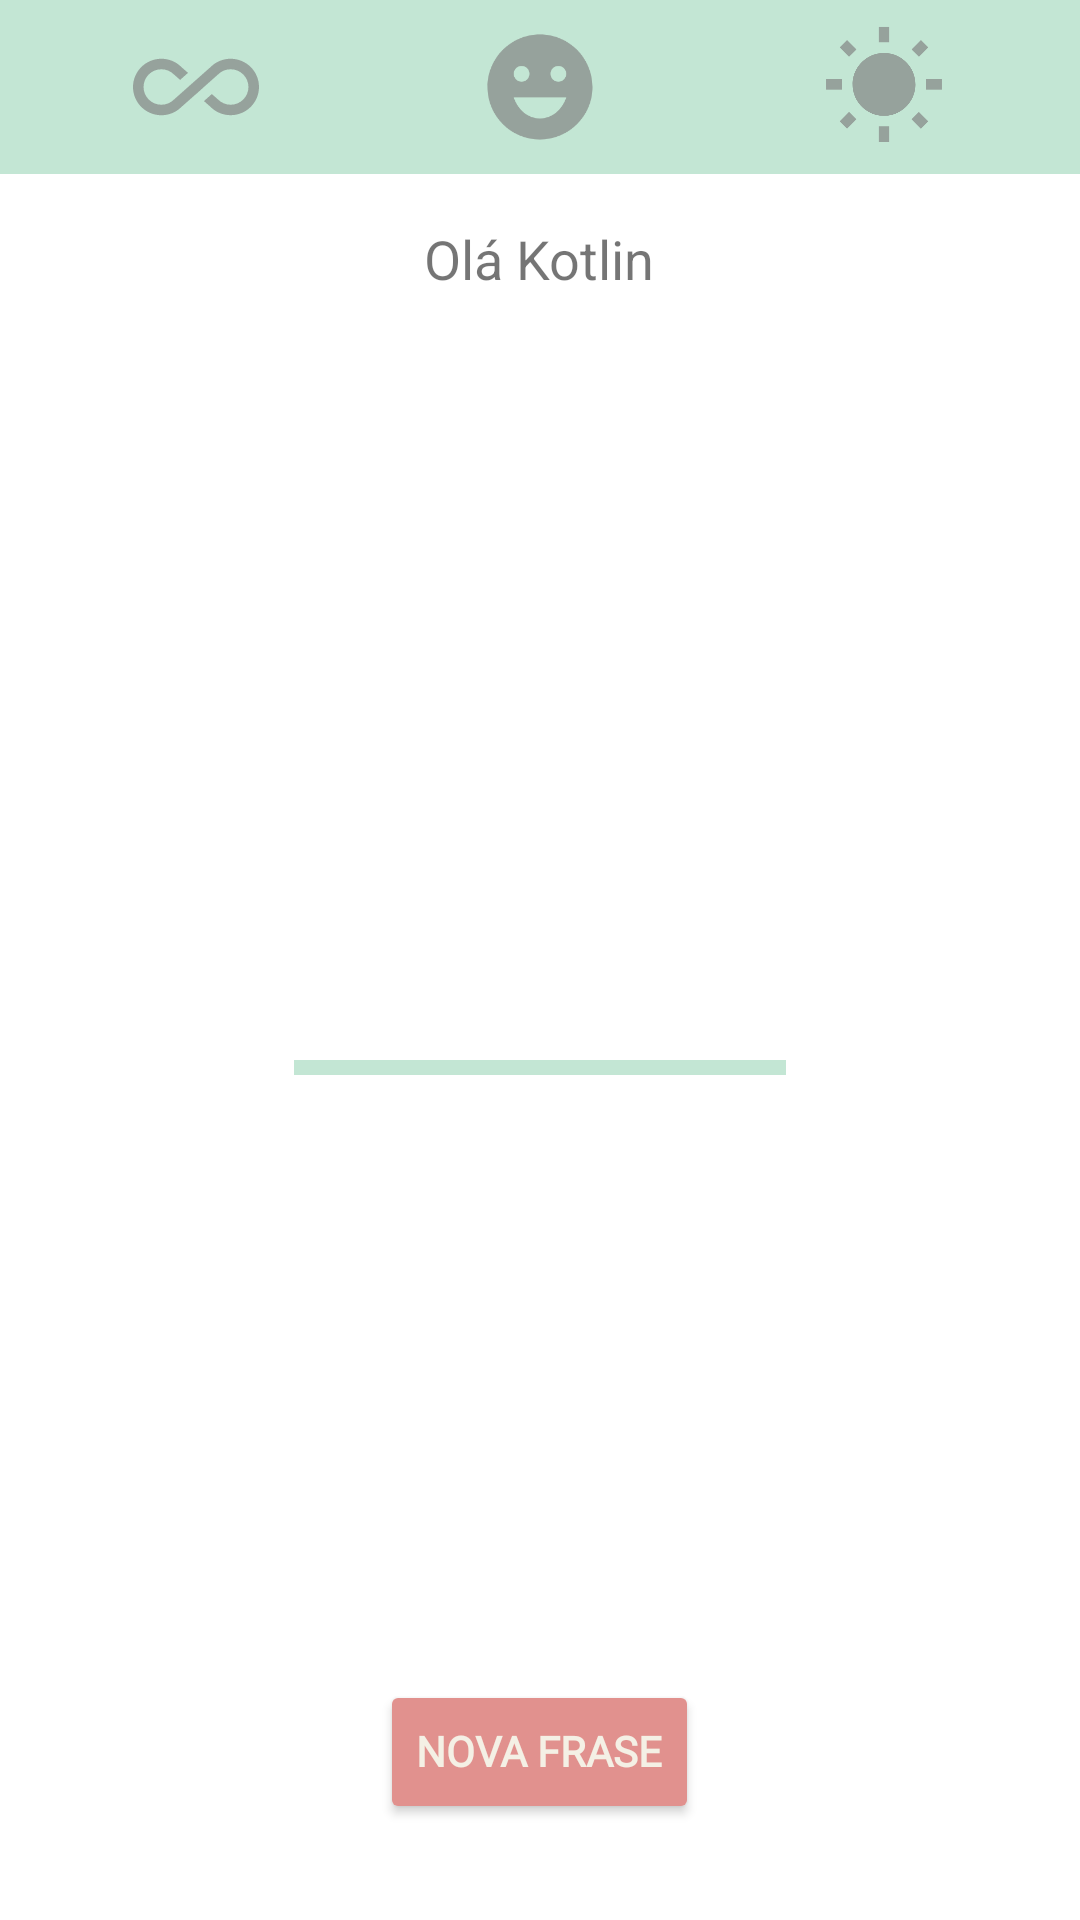

Point at icon controls on the screen. Image size 1080px×1920px, points as (x,y).
all inclusive: (196,87)
emotions: (540,87)
sunny: (884,84)
